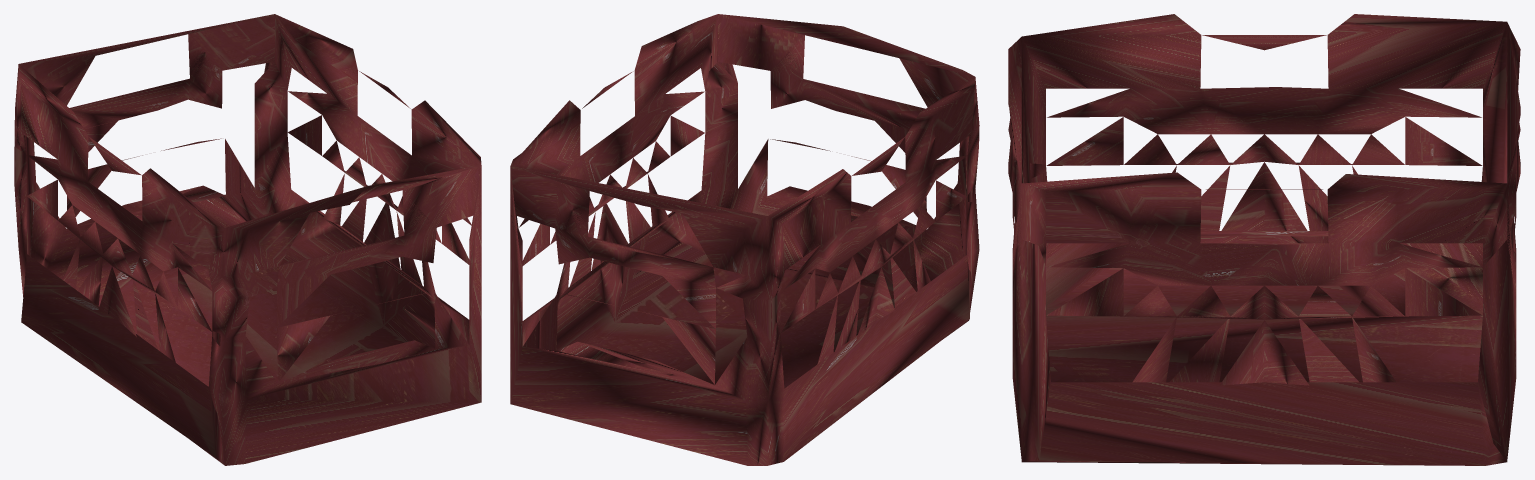
The model's file is plastic_crate_01_opt.gltf.
The picture shows the model from 3 angles, left to right: view 1: azimuth 30°, elevation 25°; view 2: azimuth 150°, elevation 25°; view 3: azimuth 270°, elevation 25°; orthographic projection. The views are drawn at different scales.
Visible parts, largest first — view 1: plastic_crate_01; view 2: plastic_crate_01; view 3: plastic_crate_01.
Boxes of the visible parts, box(x1,y1,x2,y2) form: plastic_crate_01: box(14, 14, 481, 465); plastic_crate_01: box(510, 14, 979, 465); plastic_crate_01: box(1008, 14, 1520, 465).
Size of the model in its own units: 0.298 by 0.2641 by 0.408.
1 material, 1 textured.
